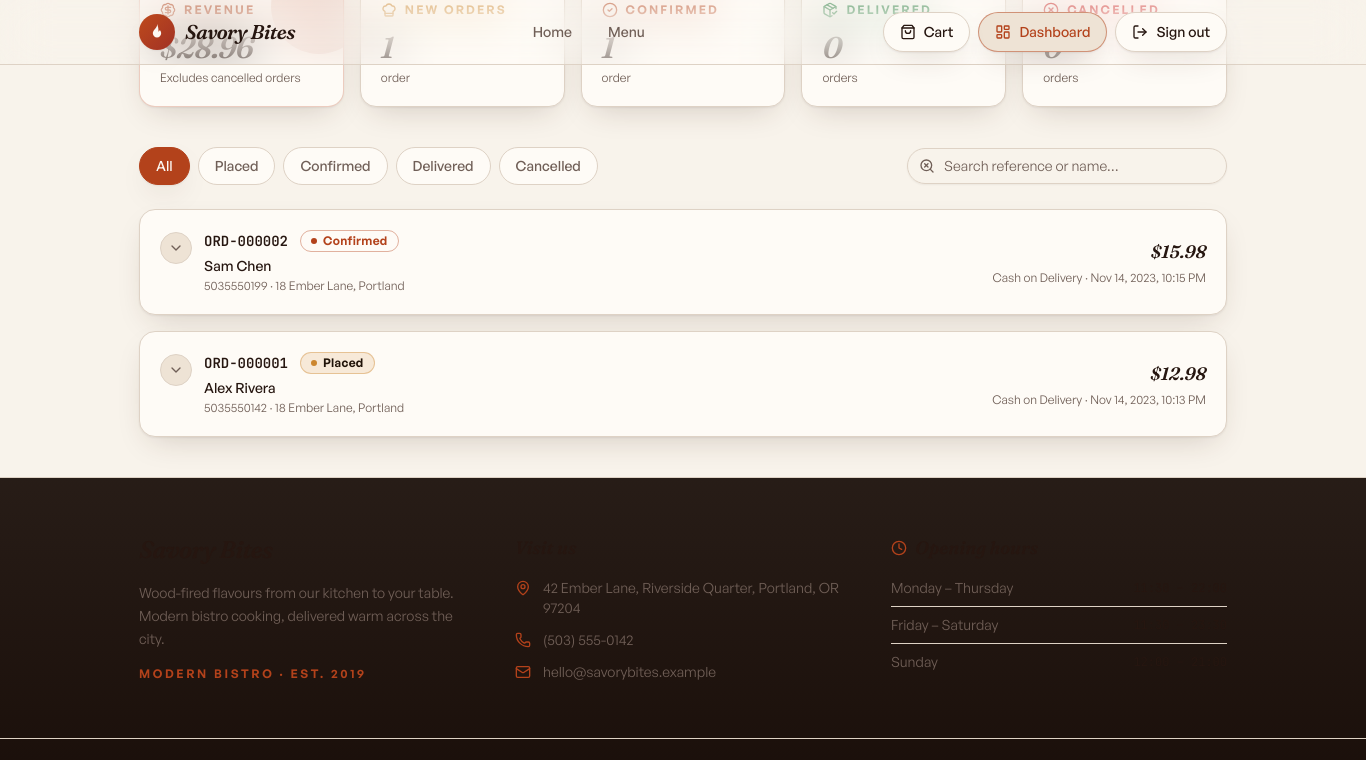
Test: admin dashboard › cancels an order
This screenshot has width=1366, height=760.
(page scrolled)
Expected: the list with test id "admin.order.list" is shown, [139,209,1227,437]
Click the button with test id "admin.order.toggle.2" at (176, 370), box [160,352,976,416]
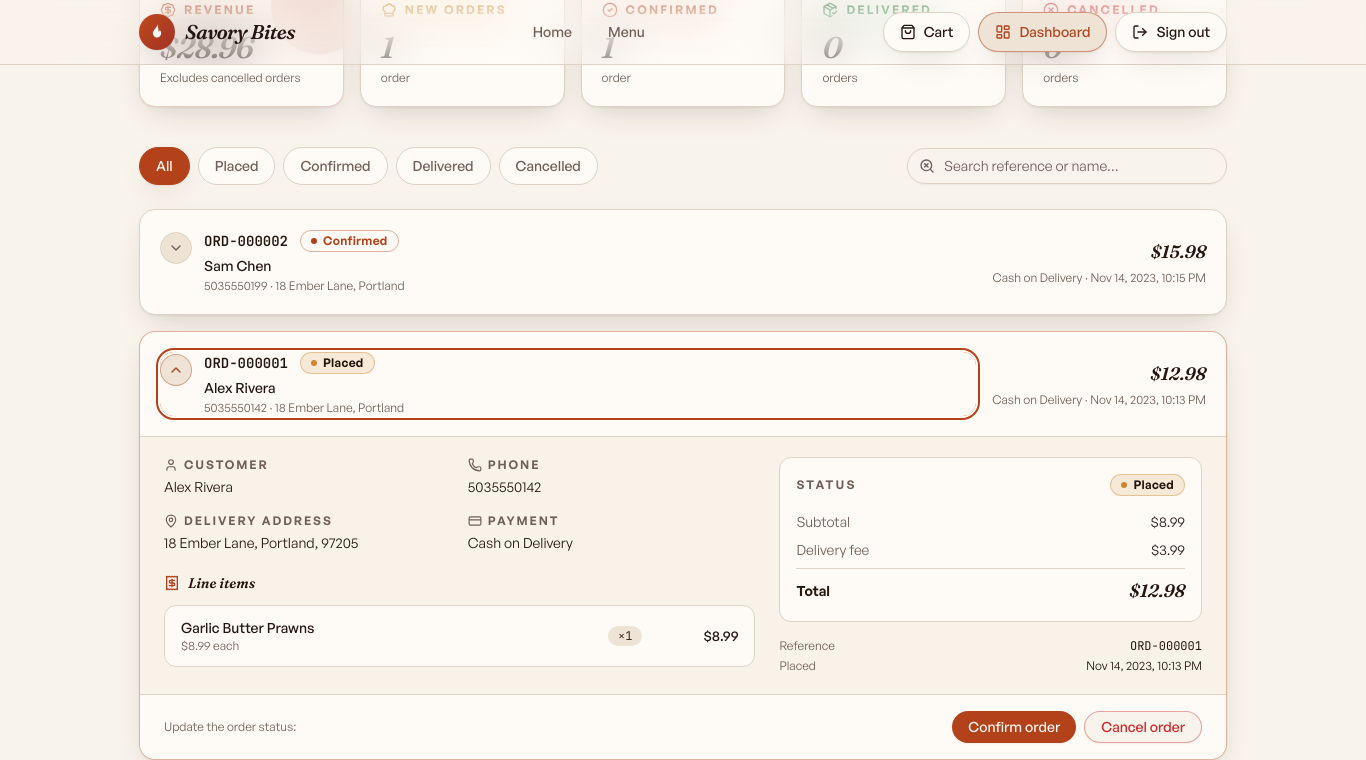
Click the button with test id "admin.order.action.cancelled.2" at (1143, 727), box [1084,711,1202,743]
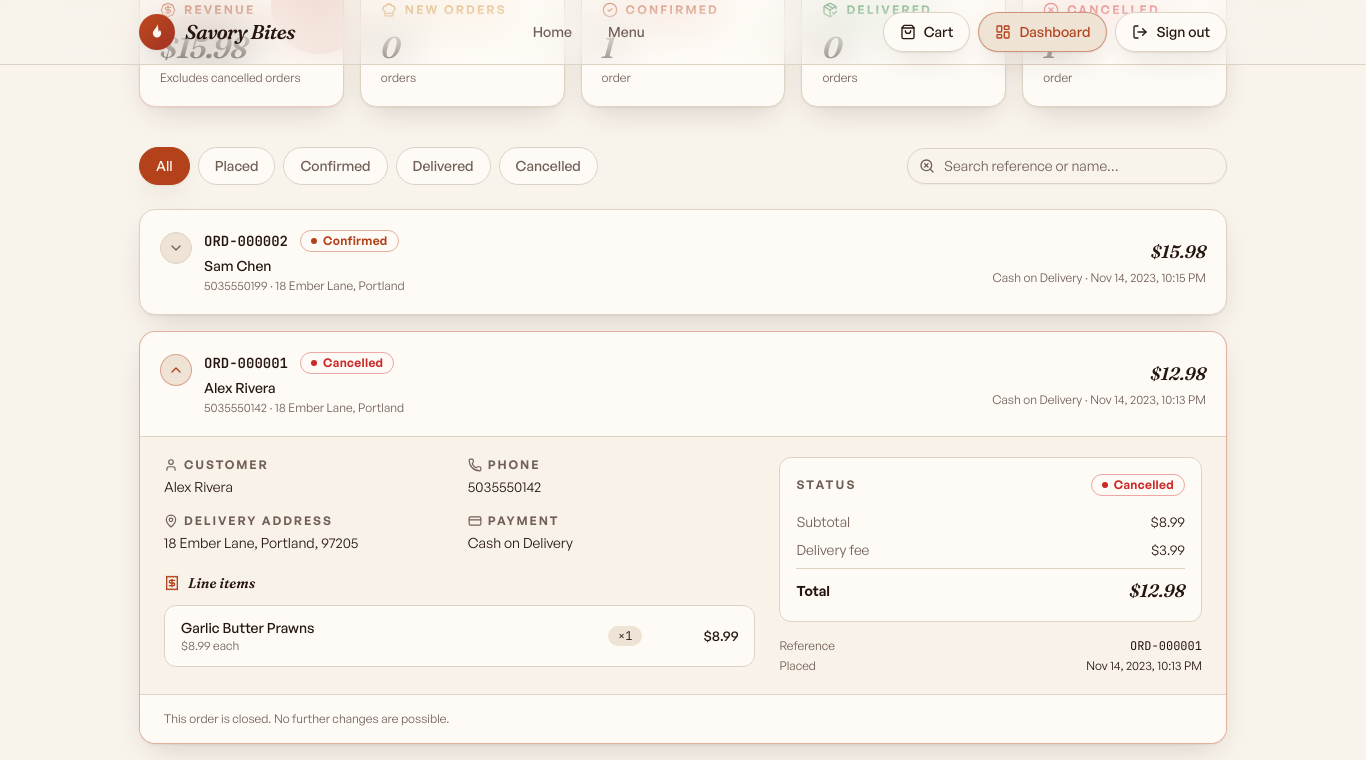
Result: the element with test id "admin.order.status_badge.cancelled" is shown at [300,352,394,374]
